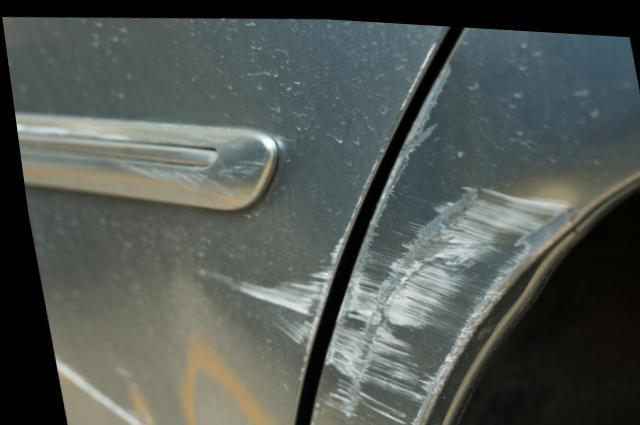scratch: (300, 181, 580, 425), (196, 232, 337, 375)
